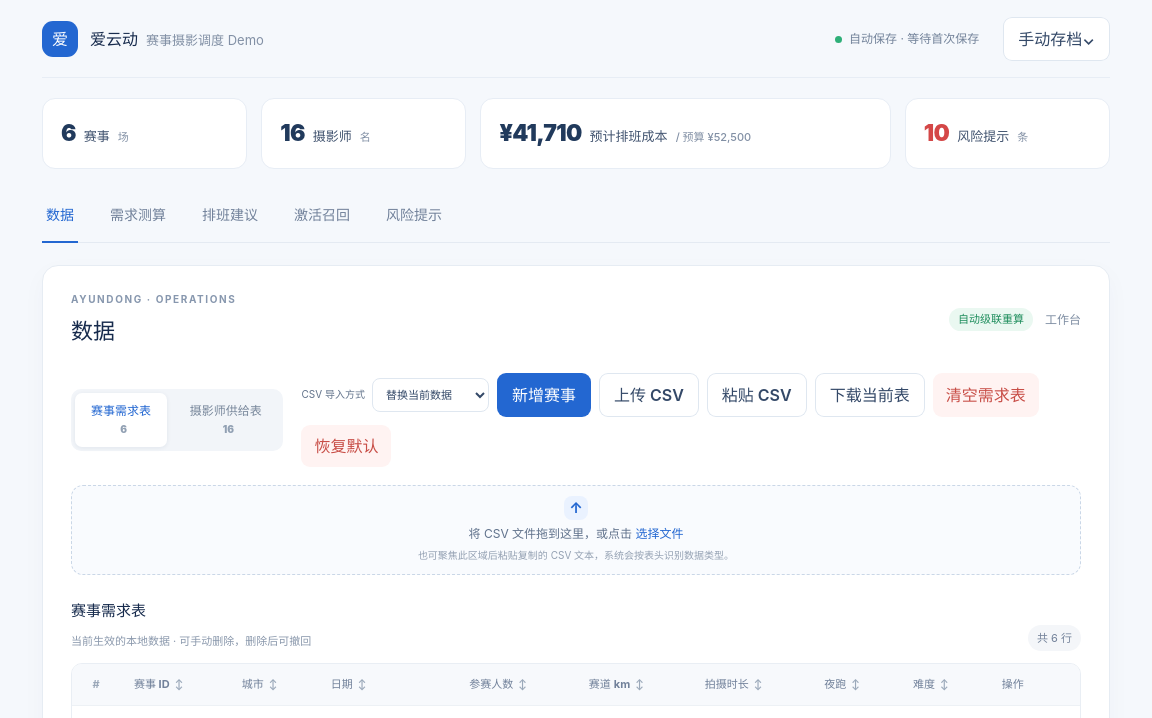
M9 manual archives and persistence controls › offers JSON export from the archive menu
Click the button "手动存档⌄": (1057, 38) [1003,16,1110,60]
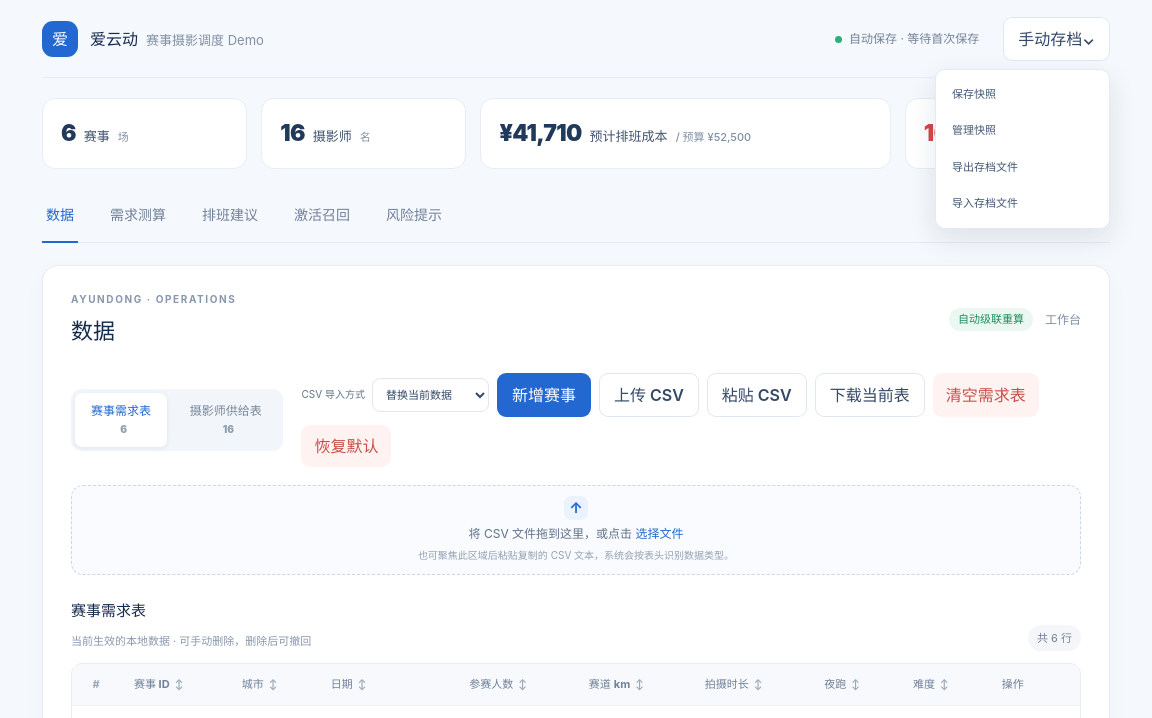
Click the menu item "导出存档文件": (1022, 167) [942,148,1103,185]
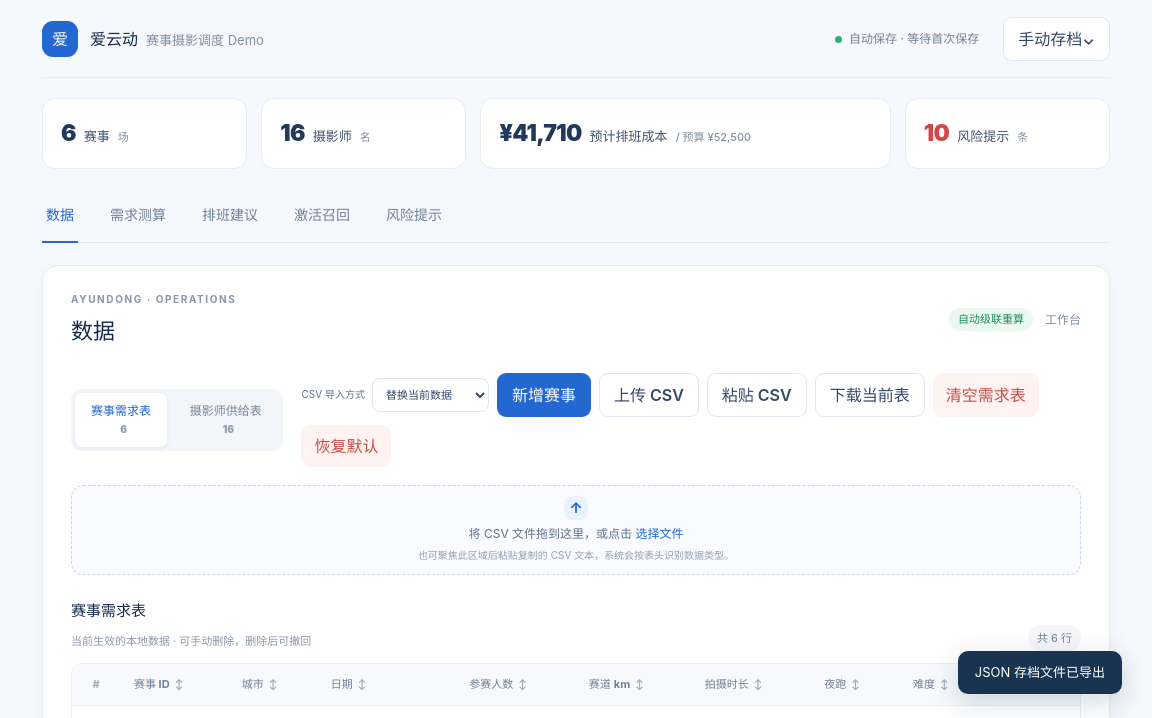
Result: the text "JSON 存档文件已导出" is shown at [958,650,1122,694]
